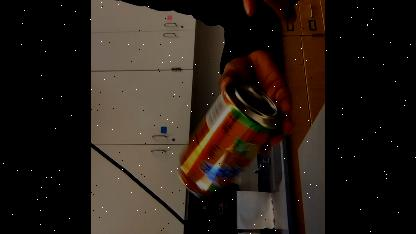Can: (172, 75, 284, 199)
